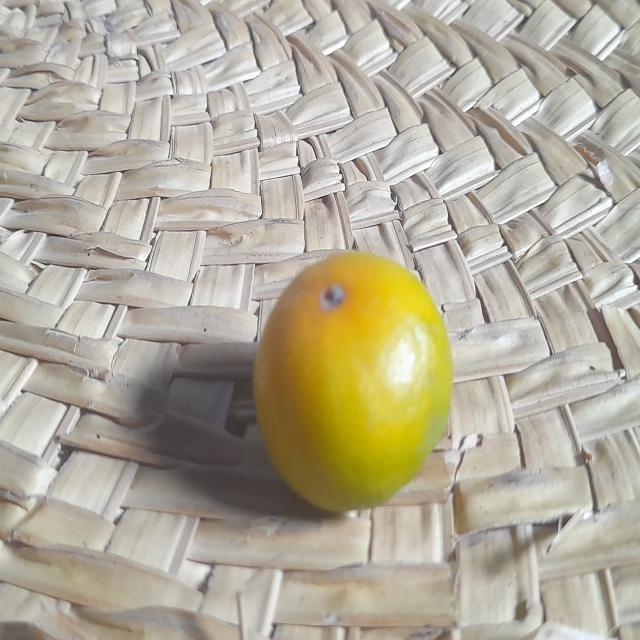greening: (250, 248, 462, 520)
